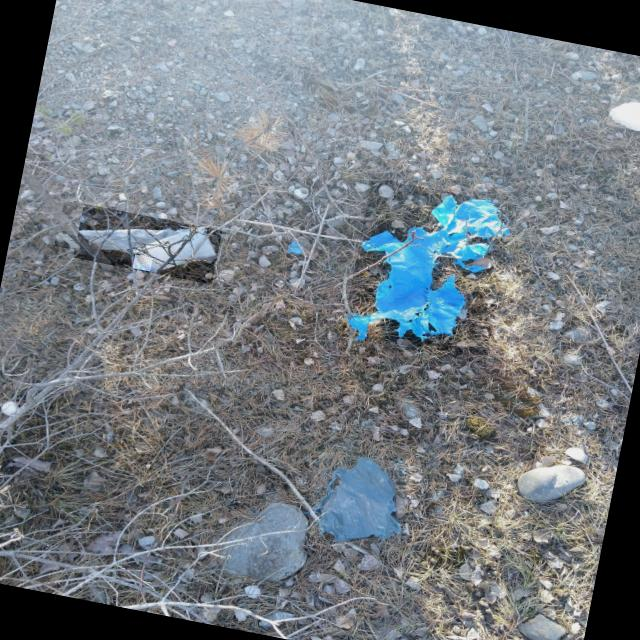Plastic film: (346, 196, 511, 342), (312, 457, 402, 542), (79, 228, 217, 273), (57, 233, 80, 250), (135, 255, 150, 272), (289, 241, 301, 255)
Styrofoam piece: (609, 103, 640, 131)
